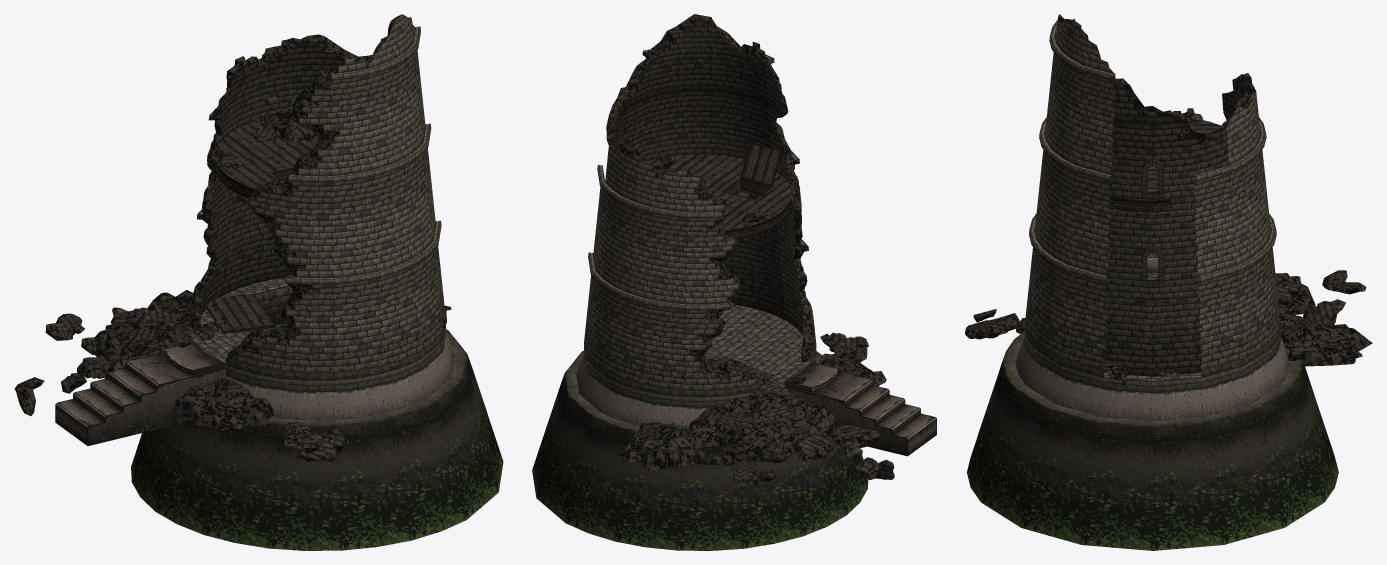
Rendered from EnvBdgMD_Sea_Lighthouse_Broken.FBX.
3 views of the same model, side by side, from view 1: azimuth 30°, elevation 25°; view 2: azimuth 150°, elevation 25°; view 3: azimuth 270°, elevation 25° (orthographic). The views are drawn at different scales.
Visible parts, largest first — view 1: EnvBdgMD_Sea_Lighthouse_Broken; view 2: EnvBdgMD_Sea_Lighthouse_Broken; view 3: EnvBdgMD_Sea_Lighthouse_Broken.
Part boxes in pixels (bbox=[...]): EnvBdgMD_Sea_Lighthouse_Broken: bbox=[14, 14, 503, 550]; EnvBdgMD_Sea_Lighthouse_Broken: bbox=[532, 14, 936, 550]; EnvBdgMD_Sea_Lighthouse_Broken: bbox=[965, 14, 1372, 550].
Bounding box in the file's own units: 1799 × 1949 × 1525.
Materials: 1 (1 with a texture image).
